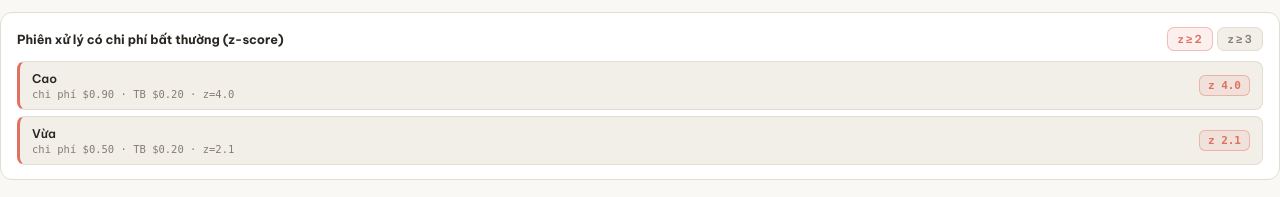
Test: CostAnomalyTable › z≥2 mặc định → cả 2; nút z≥3 → chỉ z cao
Expected: the text "Phiên xử lý có chi phí bất thường (z-score)" is shown, [17,31,284,47]
Expected: the button with test id "anom-row-hi" is shown, [17,61,1263,110]
Click the button with test id "anom-z-3": (1240, 39) [1217,27,1263,51]
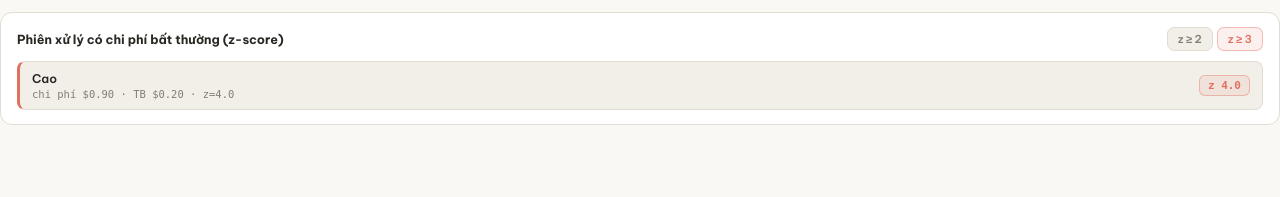
Expected: the button with test id "anom-row-hi" is shown, [17,61,1263,110]
Result: the button with test id "anom-row-mid" is gone
